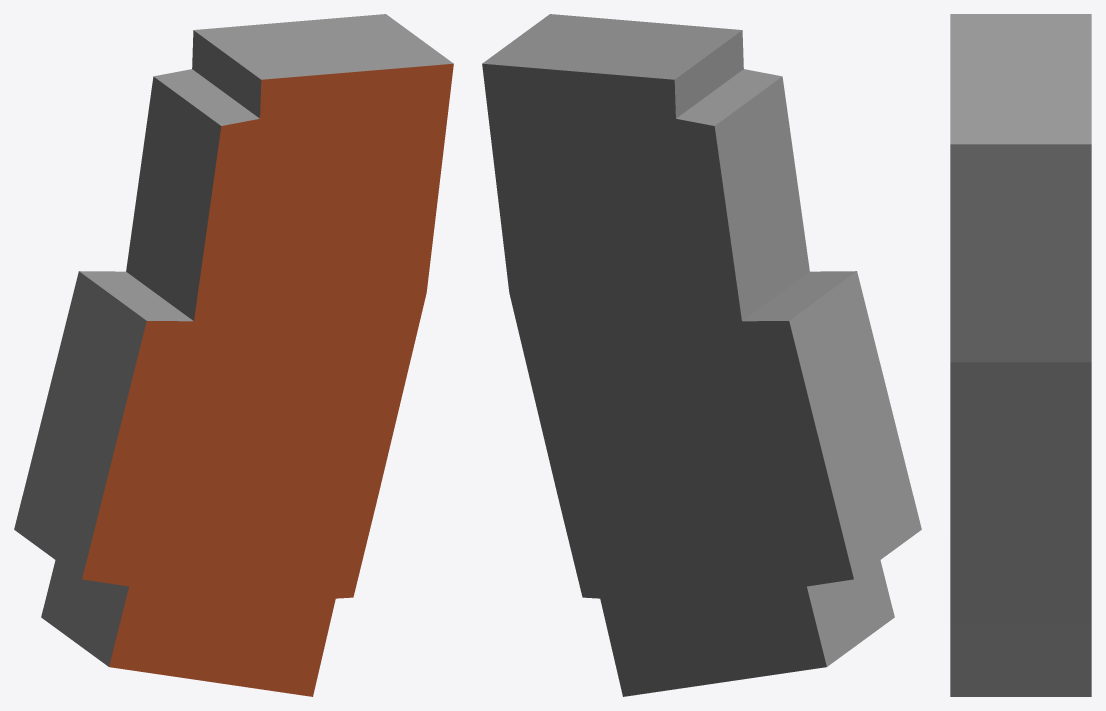
Rendered from construction_4015_assumed_A_Casa_h6m.obj.
3 views of the same model, side by side, from view 1: azimuth 30°, elevation 25°; view 2: azimuth 150°, elevation 25°; view 3: azimuth 270°, elevation 25° (orthographic). The views are drawn at different scales.
Visible parts, largest first — view 1: construction_4015_assumed_A_Casa; view 2: construction_4015_assumed_A_Casa; view 3: construction_4015_assumed_A_Casa.
Boxes of the visible parts, <box> form: construction_4015_assumed_A_Casa: <box>14,14,453,696</box>; construction_4015_assumed_A_Casa: <box>482,14,921,696</box>; construction_4015_assumed_A_Casa: <box>950,14,1091,696</box>.
Bounding box in the file's own units: 18.97 × 30.7 × 6.
